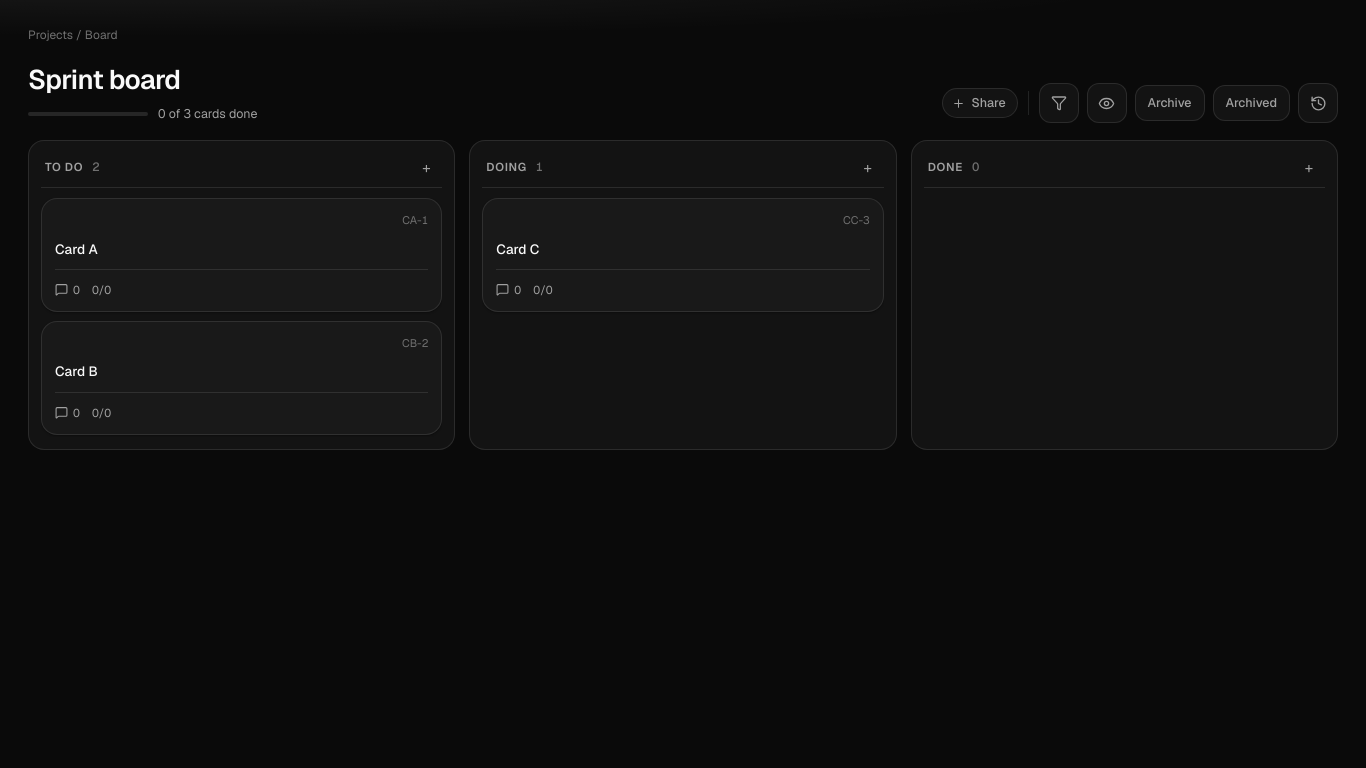
Test: ProjectBoard › keeps EDIT controls after a self-demote with nothing stored
The width and height of the screenshot is (1366, 768).
Step 1. Click the button "Share" → click(980, 103), box [942,88,1018,118]
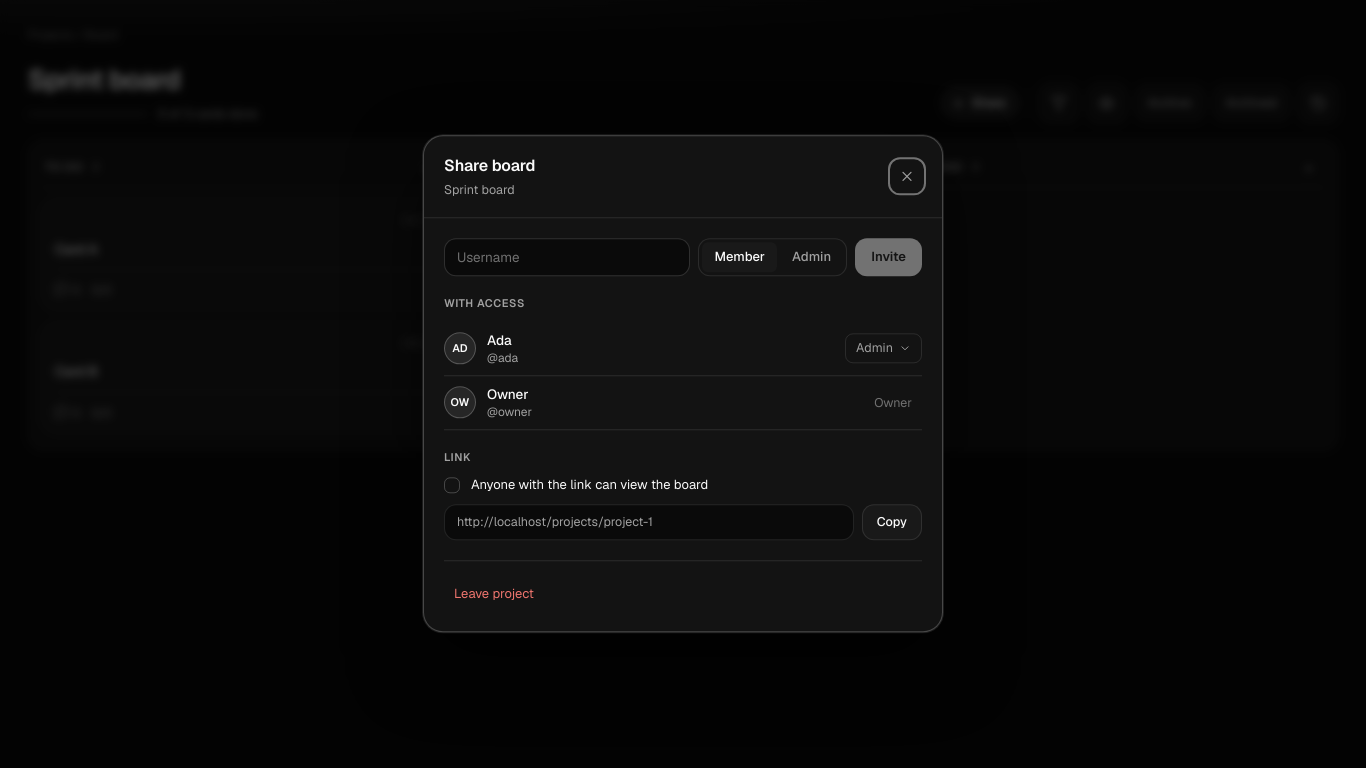
Step 2. Click the button with aria-label "Change permission" → click(884, 348), box [845,334,922,364]
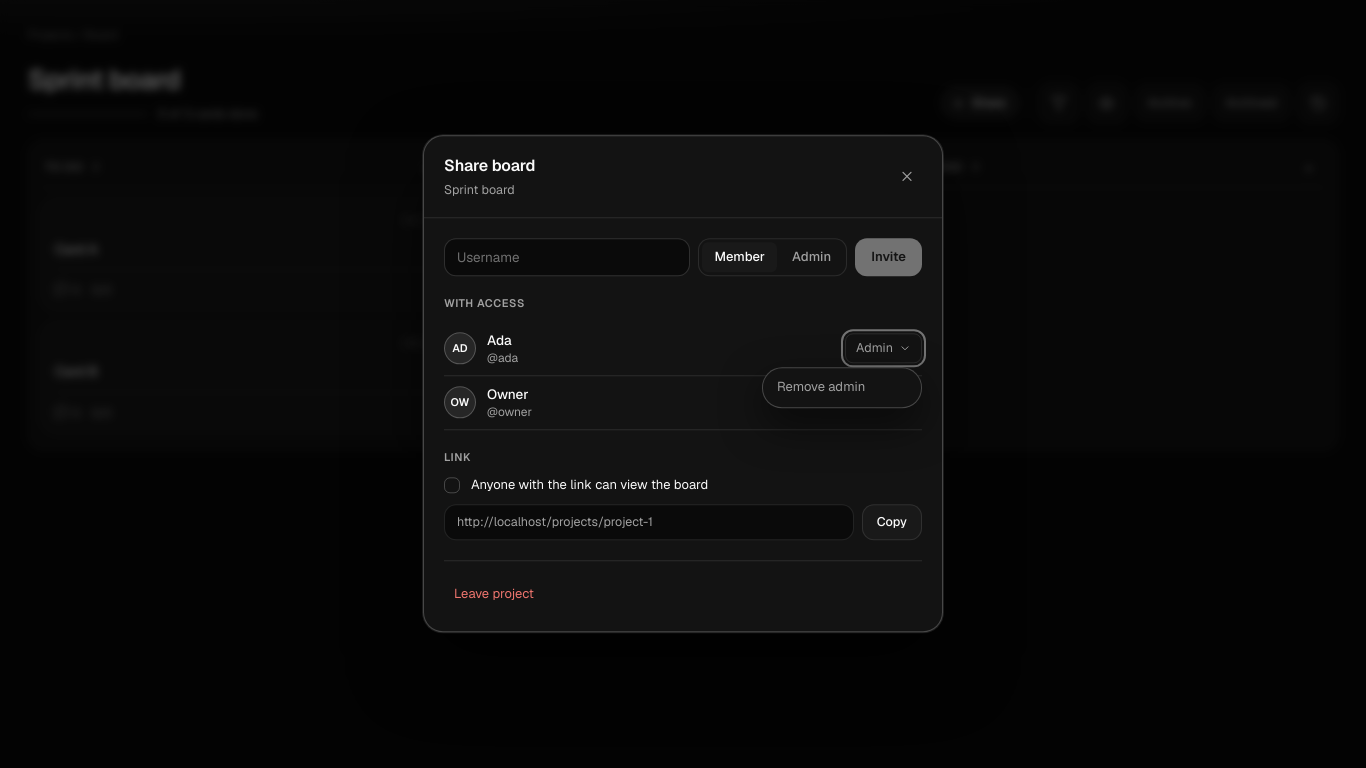
Step 3. Click the menu item "Remove admin" → click(842, 388), box [767,372,917,403]
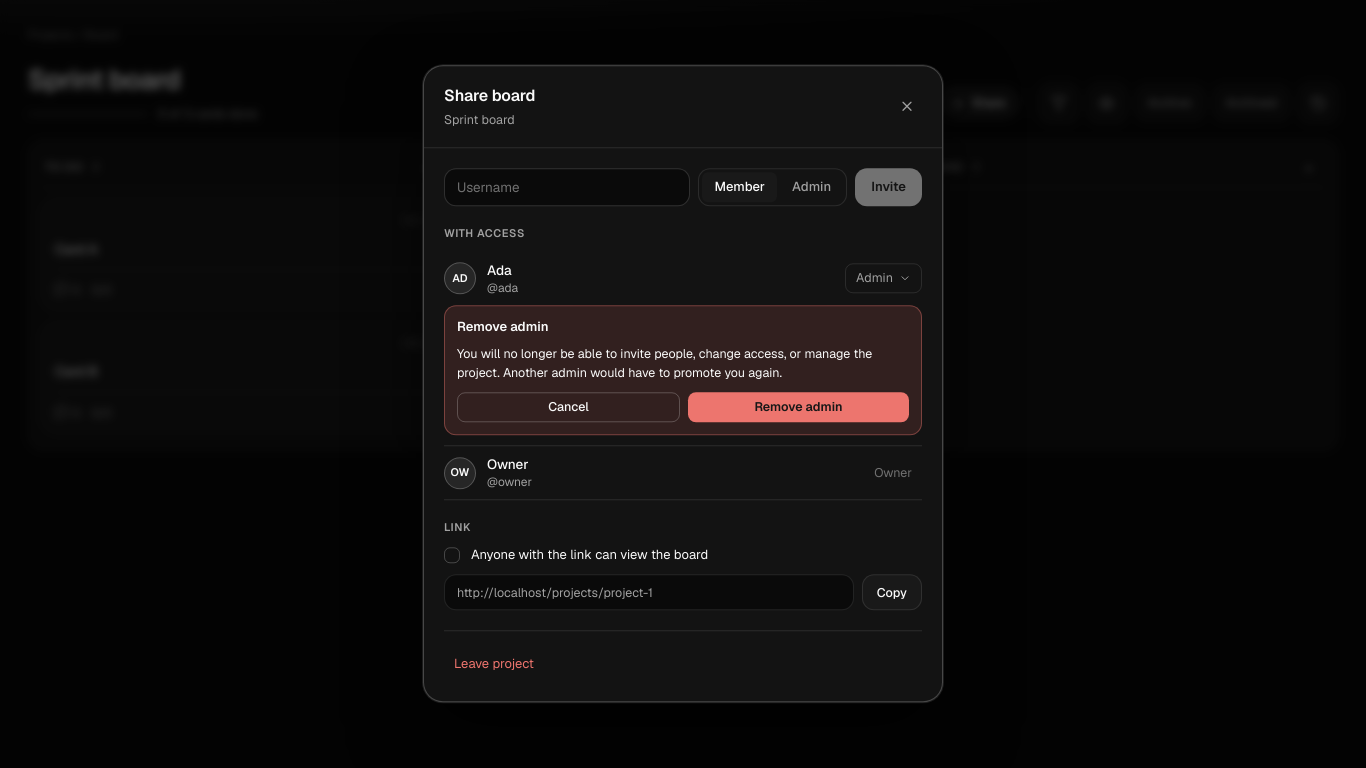
Step 4. Click the button "Remove admin" → click(798, 407), box [688,392,909,422]
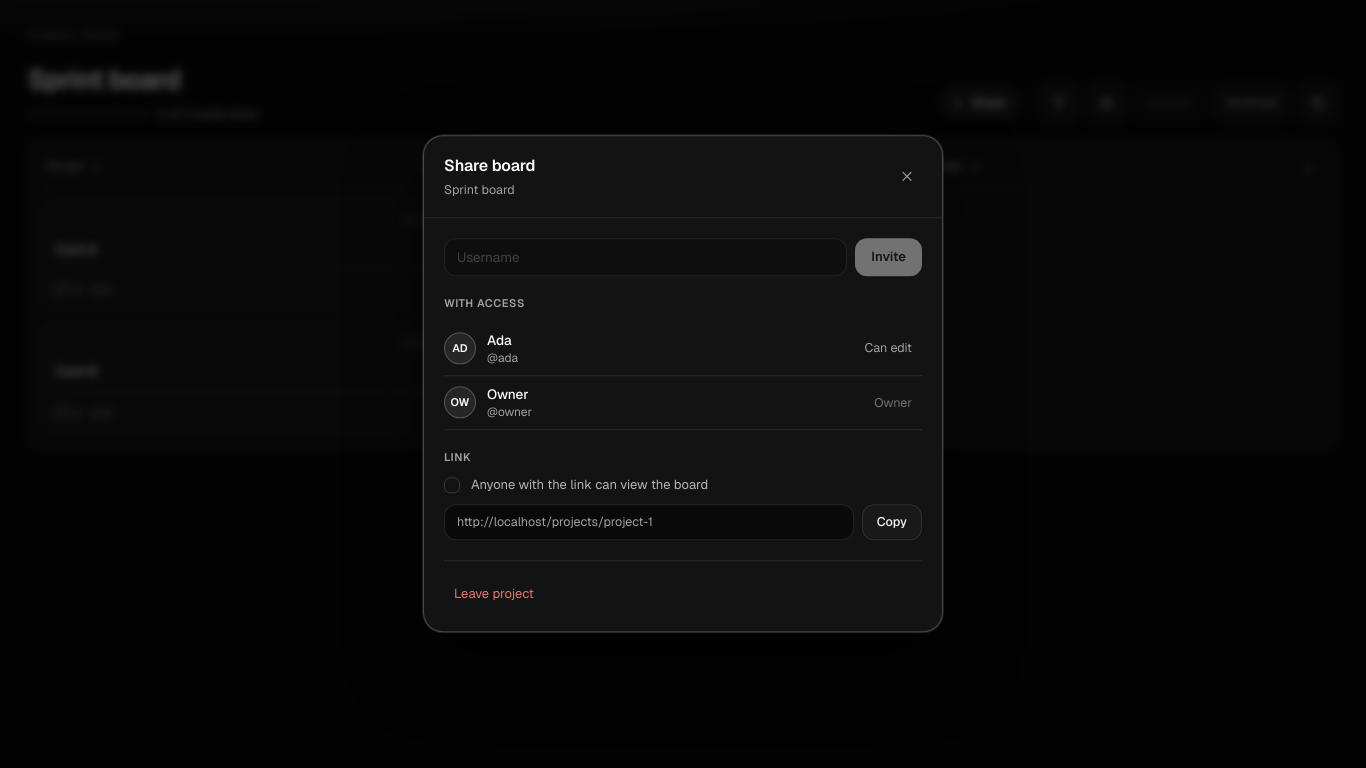
Step 5. Click the button named "Close" → click(907, 177), box [892,162,922,192]
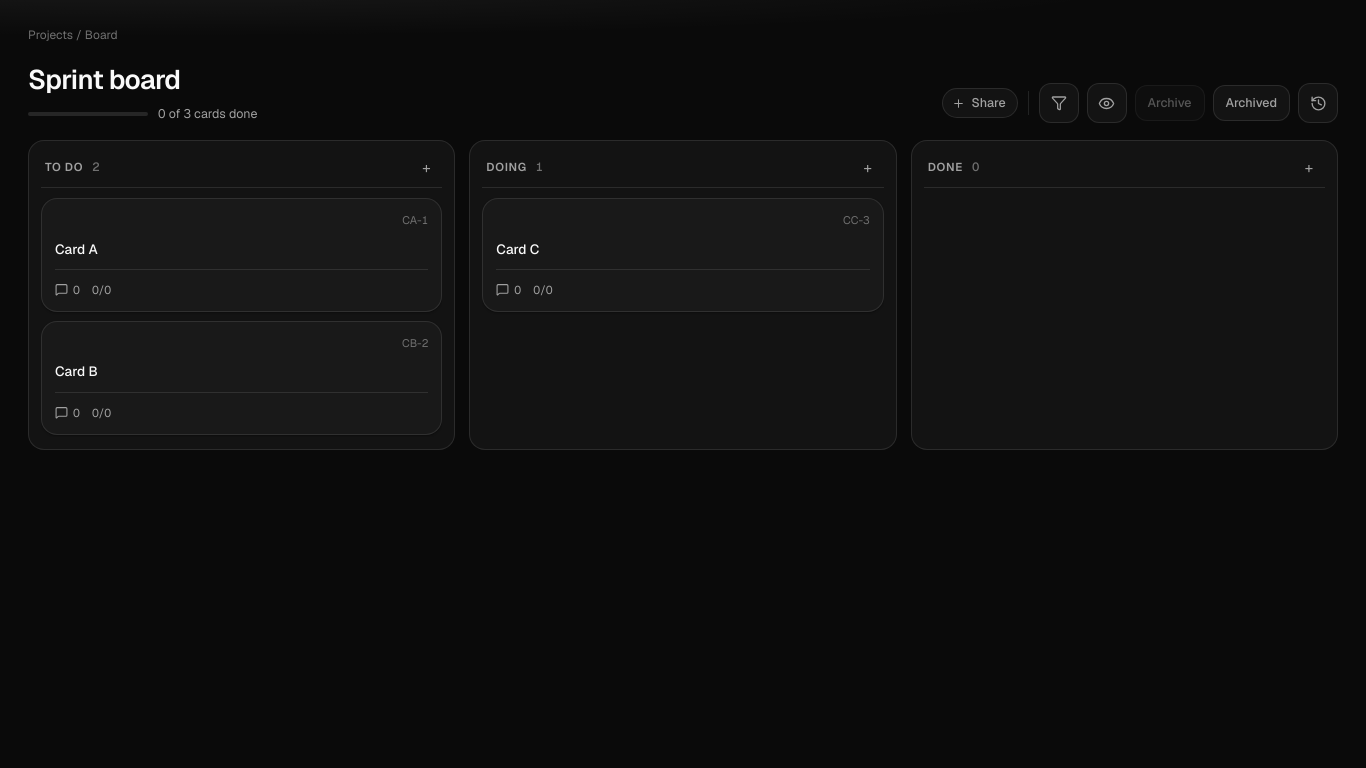
Expected: the button named "Add card to To do" is enabled, [414,155,438,179]
Step 6. Click the heading "Card A" → click(76, 248), box [55,240,98,258]
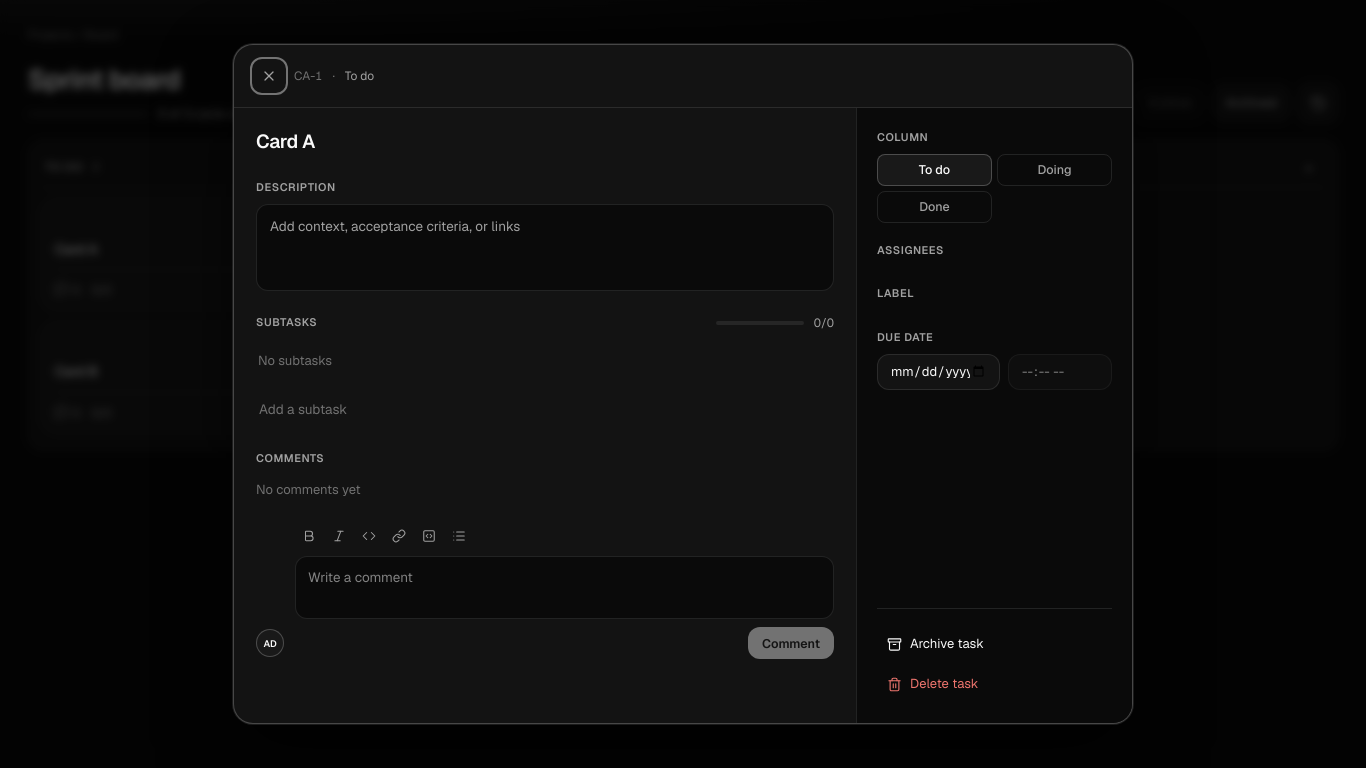
Now the text box labelled "Write a comment" is shown, box [295,556,834,619]
